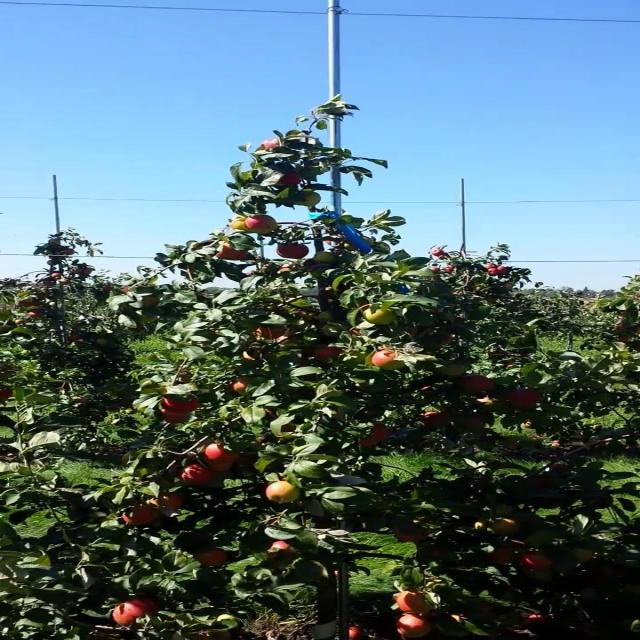apple: (113, 600, 162, 627), (397, 592, 436, 615), (397, 616, 434, 640), (355, 424, 391, 447), (369, 352, 405, 372), (269, 484, 304, 504), (205, 444, 242, 462), (198, 548, 229, 568), (461, 376, 496, 393), (390, 528, 427, 544), (248, 216, 279, 235), (490, 520, 524, 537), (163, 396, 199, 412), (276, 244, 311, 260), (184, 468, 213, 487), (525, 552, 555, 570), (490, 548, 519, 566), (369, 308, 398, 325), (127, 508, 156, 525), (511, 392, 540, 408), (220, 244, 249, 260), (419, 412, 448, 428), (156, 496, 185, 512), (461, 416, 489, 431), (255, 328, 288, 340), (525, 572, 558, 584), (298, 192, 320, 208), (440, 364, 466, 377), (269, 540, 293, 554), (163, 412, 190, 424), (476, 400, 503, 412), (319, 348, 341, 360), (575, 552, 597, 564), (276, 176, 302, 186), (262, 140, 283, 151), (476, 396, 496, 407), (234, 220, 252, 232), (276, 336, 295, 347), (212, 464, 235, 473), (319, 252, 336, 264), (234, 380, 249, 393), (476, 520, 491, 532), (319, 312, 334, 322), (440, 336, 455, 344), (284, 424, 297, 433), (419, 388, 434, 392), (6, 392, 14, 399), (355, 332, 363, 336)
